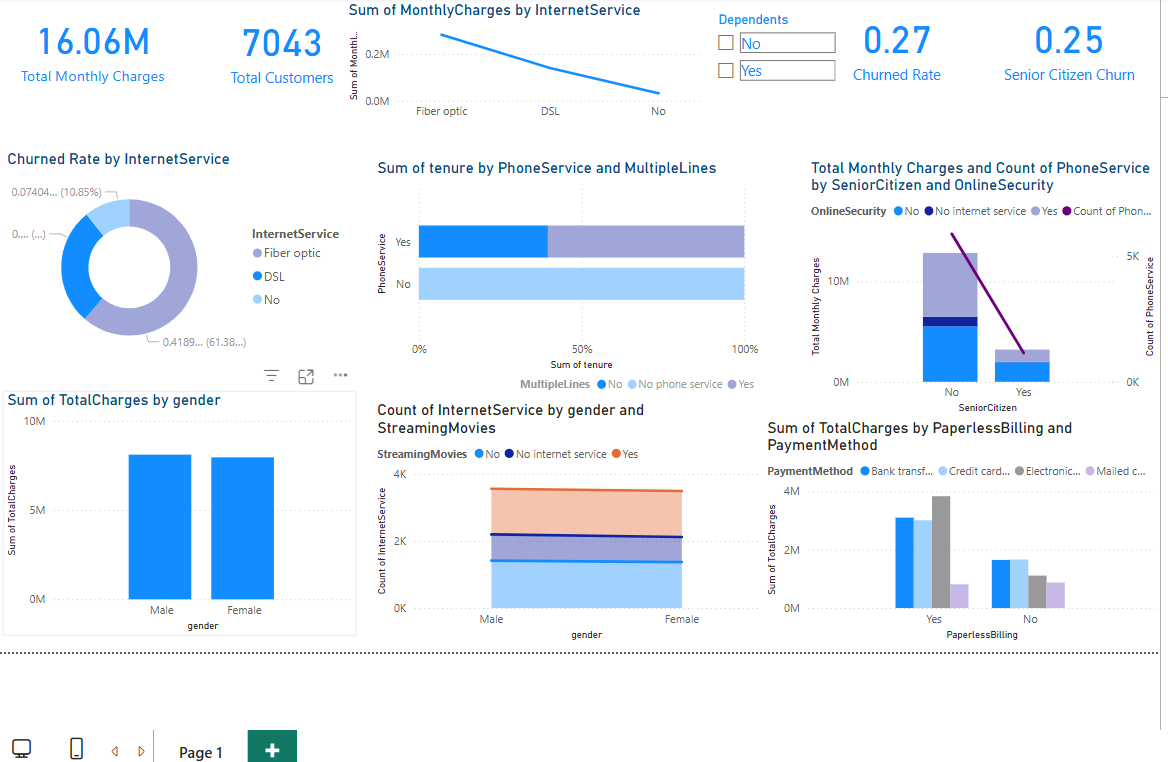

The page's visual inventory and layout, read from the dashboard file:
{"tool":"powerbi","page":{"name":"Page 1","canvas":[1280,720],"ordinal":0},"visuals":[{"type":"card","fields":{"Values":["MeasueTable.Total Monthly Charges"]},"box":[9.6,0,197.6,112.5],"z":0},{"type":"card","fields":{"Values":["MeasueTable.Churned Rate"]},"box":[891.9,4.1,199,98.8],"z":1},{"type":"card","fields":{"Values":["MeasueTable.Total Customers"]},"box":[216.8,0,199,112.5],"z":2},{"type":"card","fields":{"Values":["MeasueTable.Senior Citizen Churn"]},"box":[1081.3,0,199,105.7],"z":3},{"type":"donutChart","fields":{"Category":["WA_Fn-UseC_-Telco-Customer-Churn.InternetService"],"Y":["MeasueTable.Churned Rate"]},"box":[9.6,167.4,388.3,240.1],"z":4},{"type":"columnChart","fields":{"Category":["WA_Fn-UseC_-Telco-Customer-Churn.gender"],"Y":["Sum(WA_Fn-UseC_-Telco-Customer-Churn.TotalCharges)"]},"box":[9.6,432.2,388.3,269],"z":5},{"type":"slicer","fields":{"Values":["WA_Fn-UseC_-Telco-Customer-Churn.Dependents"]},"box":[782.2,11,146.8,101.5],"z":6},{"type":"hundredPercentStackedBarChart","fields":{"Category":["WA_Fn-UseC_-Telco-Customer-Churn.PhoneService"],"Series":["WA_Fn-UseC_-Telco-Customer-Churn.MultipleLines"],"Y":["Sum(WA_Fn-UseC_-Telco-Customer-Churn.tenure)"]},"box":[415.8,177,428.1,266.2],"z":7},{"type":"lineChart","fields":{"Y":["Sum(WA_Fn-UseC_-Telco-Customer-Churn.MonthlyCharges)"],"Category":["WA_Fn-UseC_-Telco-Customer-Churn.InternetService"]},"box":[384.2,4.1,397.9,140],"z":8},{"type":"lineStackedColumnComboChart","fields":{"Y":["MeasueTable.Total Monthly Charges"],"Category":["WA_Fn-UseC_-Telco-Customer-Churn.SeniorCitizen"],"Series":["WA_Fn-UseC_-Telco-Customer-Churn.OnlineSecurity"],"Y2":["CountNonNull(WA_Fn-UseC_-Telco-Customer-Churn.PhoneService)"]},"box":[891.9,177,388.3,285.4],"z":9},{"type":"stackedAreaChart","fields":{"Category":["WA_Fn-UseC_-Telco-Customer-Churn.gender"],"Series":["WA_Fn-UseC_-Telco-Customer-Churn.StreamingMovies"],"Y":["CountNonNull(WA_Fn-UseC_-Telco-Customer-Churn.InternetService)"]},"box":[415.8,443.2,428.1,267.6],"z":10},{"type":"clusteredColumnChart","fields":{"Category":["WA_Fn-UseC_-Telco-Customer-Churn.PaperlessBilling"],"Series":["WA_Fn-UseC_-Telco-Customer-Churn.PaymentMethod"],"Y":["Sum(WA_Fn-UseC_-Telco-Customer-Churn.TotalCharges)"]},"box":[843.9,462.4,436.4,248.4],"z":11}]}

Visuals, with their boxes on the page's 1280x720 design canvas (x1, y1, x2, y2). These are canvas units, not pixel positions in the 1168x762 screenshot, which may show the page scaled, cropped or inside an application window:
card - MeasueTable.Total Monthly Charges: box(10, 0, 207, 112)
card - MeasueTable.Churned Rate: box(892, 4, 1091, 103)
card - MeasueTable.Total Customers: box(217, 0, 416, 112)
card - MeasueTable.Senior Citizen Churn: box(1081, 0, 1280, 106)
donutChart - WA_Fn-UseC_-Telco-Customer-Churn.InternetService x MeasueTable.Churned Rate: box(10, 167, 398, 408)
columnChart - WA_Fn-UseC_-Telco-Customer-Churn.gender x Sum(WA_Fn-UseC_-Telco-Customer-Churn.TotalCharges): box(10, 432, 398, 701)
slicer - WA_Fn-UseC_-Telco-Customer-Churn.Dependents: box(782, 11, 929, 112)
hundredPercentStackedBarChart - WA_Fn-UseC_-Telco-Customer-Churn.PhoneService x WA_Fn-UseC_-Telco-Customer-Churn.MultipleLines: box(416, 177, 844, 443)
lineChart - Sum(WA_Fn-UseC_-Telco-Customer-Churn.MonthlyCharges) x WA_Fn-UseC_-Telco-Customer-Churn.InternetService: box(384, 4, 782, 144)
lineStackedColumnComboChart - MeasueTable.Total Monthly Charges x WA_Fn-UseC_-Telco-Customer-Churn.SeniorCitizen: box(892, 177, 1280, 462)
stackedAreaChart - WA_Fn-UseC_-Telco-Customer-Churn.gender x WA_Fn-UseC_-Telco-Customer-Churn.StreamingMovies: box(416, 443, 844, 711)
clusteredColumnChart - WA_Fn-UseC_-Telco-Customer-Churn.PaperlessBilling x WA_Fn-UseC_-Telco-Customer-Churn.PaymentMethod: box(844, 462, 1280, 711)
